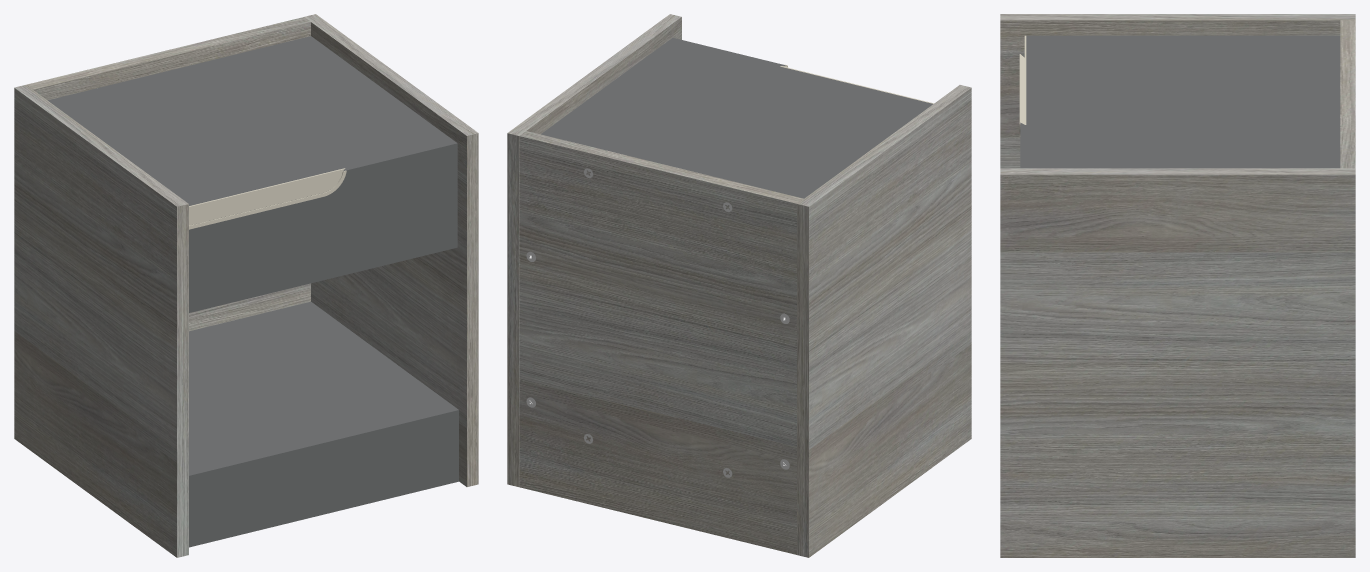
3 renders of one model, left to right at view 1: azimuth 30°, elevation 25°; view 2: azimuth 150°, elevation 25°; view 3: azimuth 270°, elevation 25°, orthographic. The views are drawn at different scales.
Visible parts, largest first — view 1: group_0.923, Plane, group_4; view 2: Plane, group_0.923; view 3: Plane, group_0.923, group_4.
Boxes of the visible parts, x1,y1,x2,y2 form: group_0.923: [48, 36, 458, 547]; Plane: [14, 14, 478, 557]; group_4: [189, 168, 346, 229]; Plane: [507, 14, 971, 557]; group_0.923: [541, 37, 932, 198]; Plane: [1000, 14, 1355, 557]; group_0.923: [1020, 35, 1340, 168]; group_4: [1019, 35, 1026, 136].
Size of the model in its own units: 0.4494 by 0.5 by 0.4202.
Materials: 4 (1 with a texture image).
